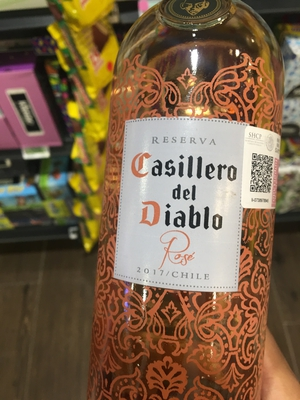casillero del diablo rose: (90, 12, 296, 380)
